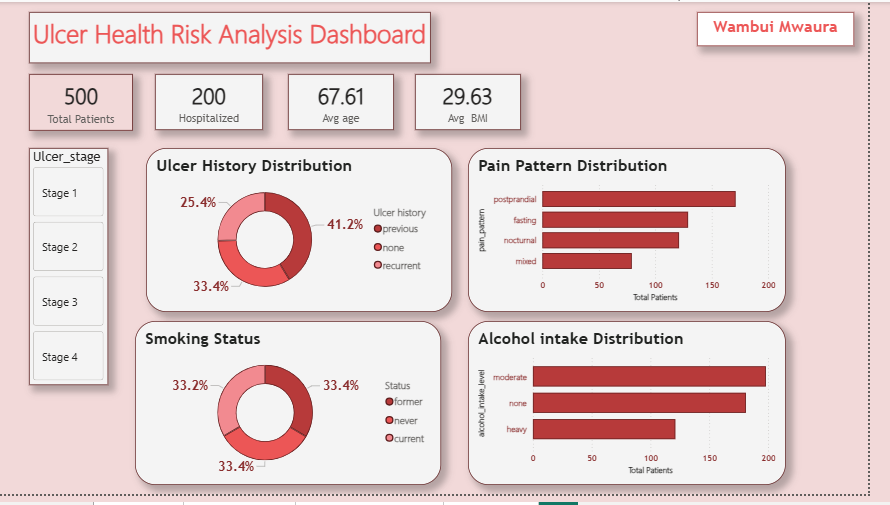

Layout of this report page (visuals, bound fields, positions):
{"tool":"powerbi","page":{"name":"Ulcer History","canvas":[1280,720],"ordinal":1},"visuals":[{"type":"donutChart","title":"Ulcer History Distribution","fields":{"Category":["ulcer_cleaned_data.ulcer_history"],"Y":["CountNonNull(ulcer_cleaned_data.patient_id)"]},"box":[222.4,213.7,447.8,240],"z":0},{"type":"barChart","title":"Pain Pattern Distribution","fields":{"Category":["ulcer_cleaned_data.pain_pattern"],"Y":["CountNonNull(ulcer_cleaned_data.patient_id)"]},"box":[693.7,213.7,465.4,240],"z":1000},{"type":"advancedSlicerVisual","fields":{"Values":["Ulcer Image Dataset.Ulcer_stage"]},"box":[51.2,213.7,115.6,346.8],"z":2000},{"type":"card","fields":{"Values":["CountNonNull(ulcer_cleaned_data.patient_id)"]},"box":[51.2,105.4,152.2,83.4],"z":3000},{"type":"card","fields":{"Values":["CountNonNull(ulcer_cleaned_data.hospitalization_required)"]},"box":[235.2,105.8,157.9,82.3],"z":4000},{"type":"card","fields":{"Values":["Avg(ulcer_cleaned_data.age)"]},"box":[430,105.8,154.5,82.3],"z":5000},{"type":"card","fields":{"Values":["Avg(ulcer_cleaned_data.bmi)"]},"box":[616.5,105.8,154.5,82.3],"z":6000},{"type":"donutChart","title":"Smoking Status","fields":{"Y":["CountNonNull(ulcer_cleaned_data.patient_id)"],"Category":["ulcer_cleaned_data.smoking_status"]},"box":[206.3,466.8,447.8,240],"z":7000},{"type":"barChart","title":"Alcohol intake Distribution","fields":{"Y":["CountNonNull(ulcer_cleaned_data.patient_id)"],"Category":["ulcer_cleaned_data.alcohol_intake_level"]},"box":[693.7,466.8,465.4,240],"z":8000},{"type":"textbox","box":[51.2,14.6,588.3,74.6],"z":9000},{"type":"textbox","box":[1028.8,14.6,229.8,49.8],"z":9001}]}

Visuals, with their boxes in screenshot pixels (x1, y1, x2, y2), scaled from the page's 1280x720 canvas onto the 890x505 screenshot:
"Ulcer History Distribution" donutChart: [155,150,466,318]
"Pain Pattern Distribution" barChart: [482,150,806,318]
advancedSlicerVisual - Ulcer Image Dataset.Ulcer_stage: [36,150,116,393]
card - CountNonNull(ulcer_cleaned_data.patient_id): [36,74,141,132]
card - CountNonNull(ulcer_cleaned_data.hospitalization_required): [164,74,273,132]
card - Avg(ulcer_cleaned_data.age): [299,74,406,132]
card - Avg(ulcer_cleaned_data.bmi): [429,74,536,132]
"Smoking Status" donutChart: [143,327,455,496]
"Alcohol intake Distribution" barChart: [482,327,806,496]
textbox: [36,10,445,63]
textbox: [715,10,875,45]
